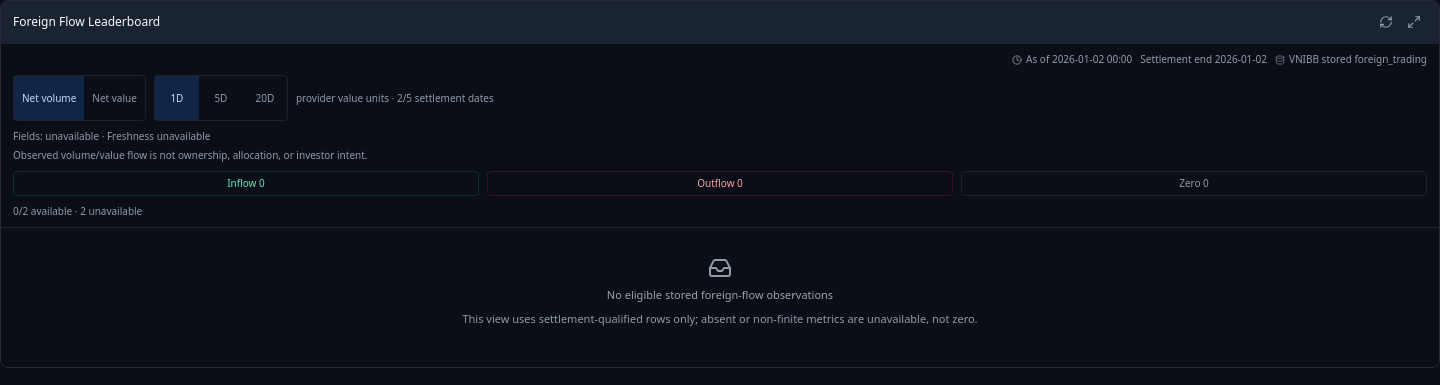
Test case: Wave 4 widgets › discloses partial settlement coverage and unavailable source health
Click the button "5D": (221, 98) [199, 76, 243, 120]
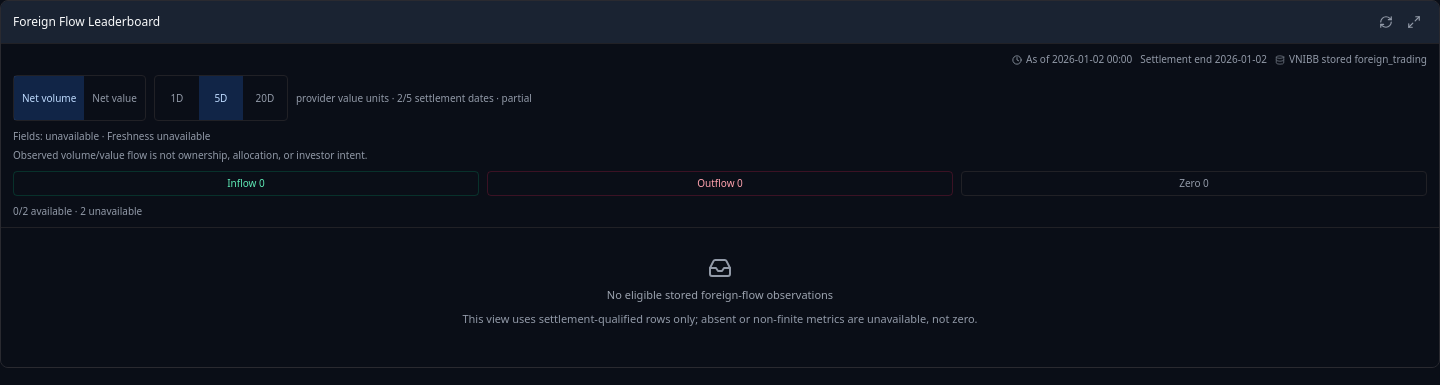
Expected: the text "Fields: unavailable · Freshness unavailable" is shown, [13, 129, 210, 143]
Expected: the text "provider value units · 2/5 settlement dates · partial" is shown, [296, 90, 532, 106]
